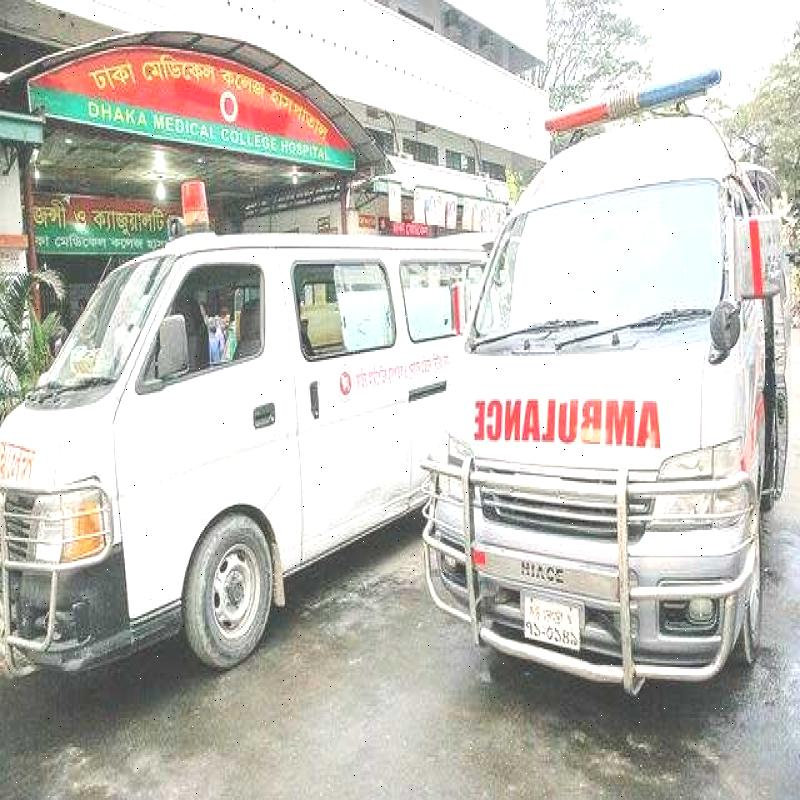AmbulanceSiren: (525, 60, 737, 141), (172, 160, 218, 241)
